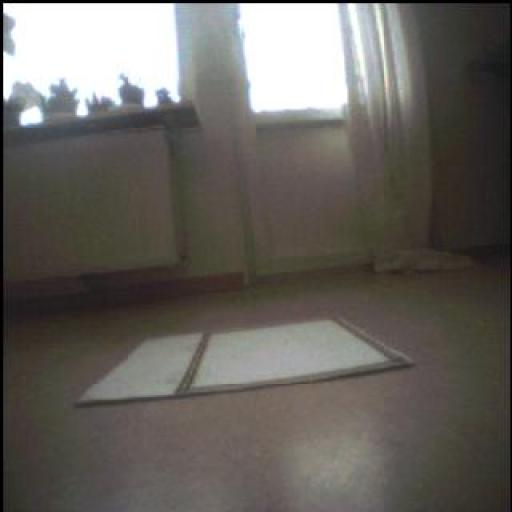Pad: (73, 308, 423, 407)
